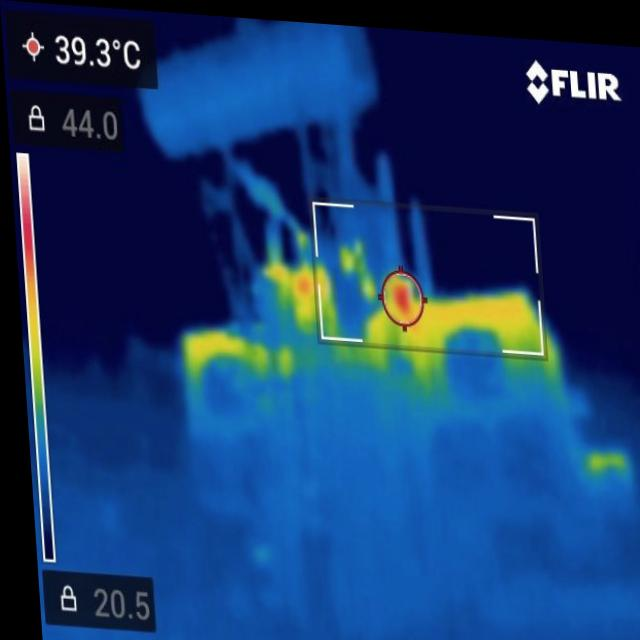Potentially Faulty: (374, 268, 430, 328)
